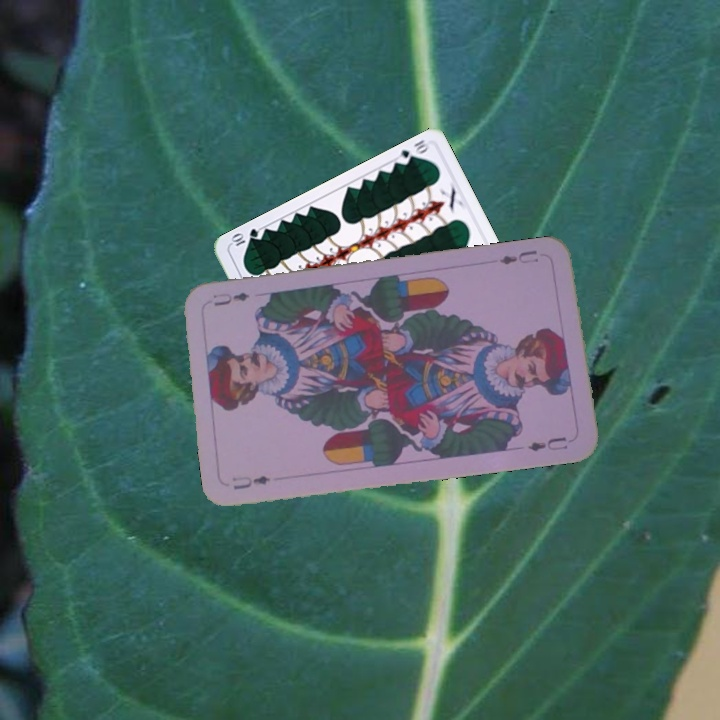EU: (495, 246, 541, 268), (228, 471, 273, 492)
G10: (392, 135, 432, 167)
